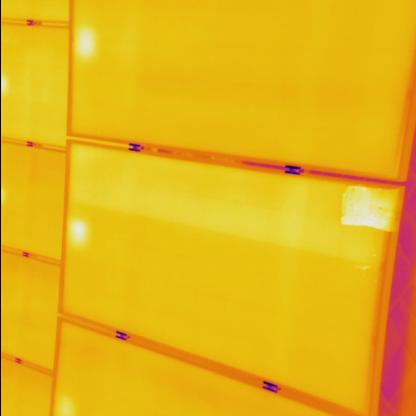hotspot: (342, 184, 397, 232)
